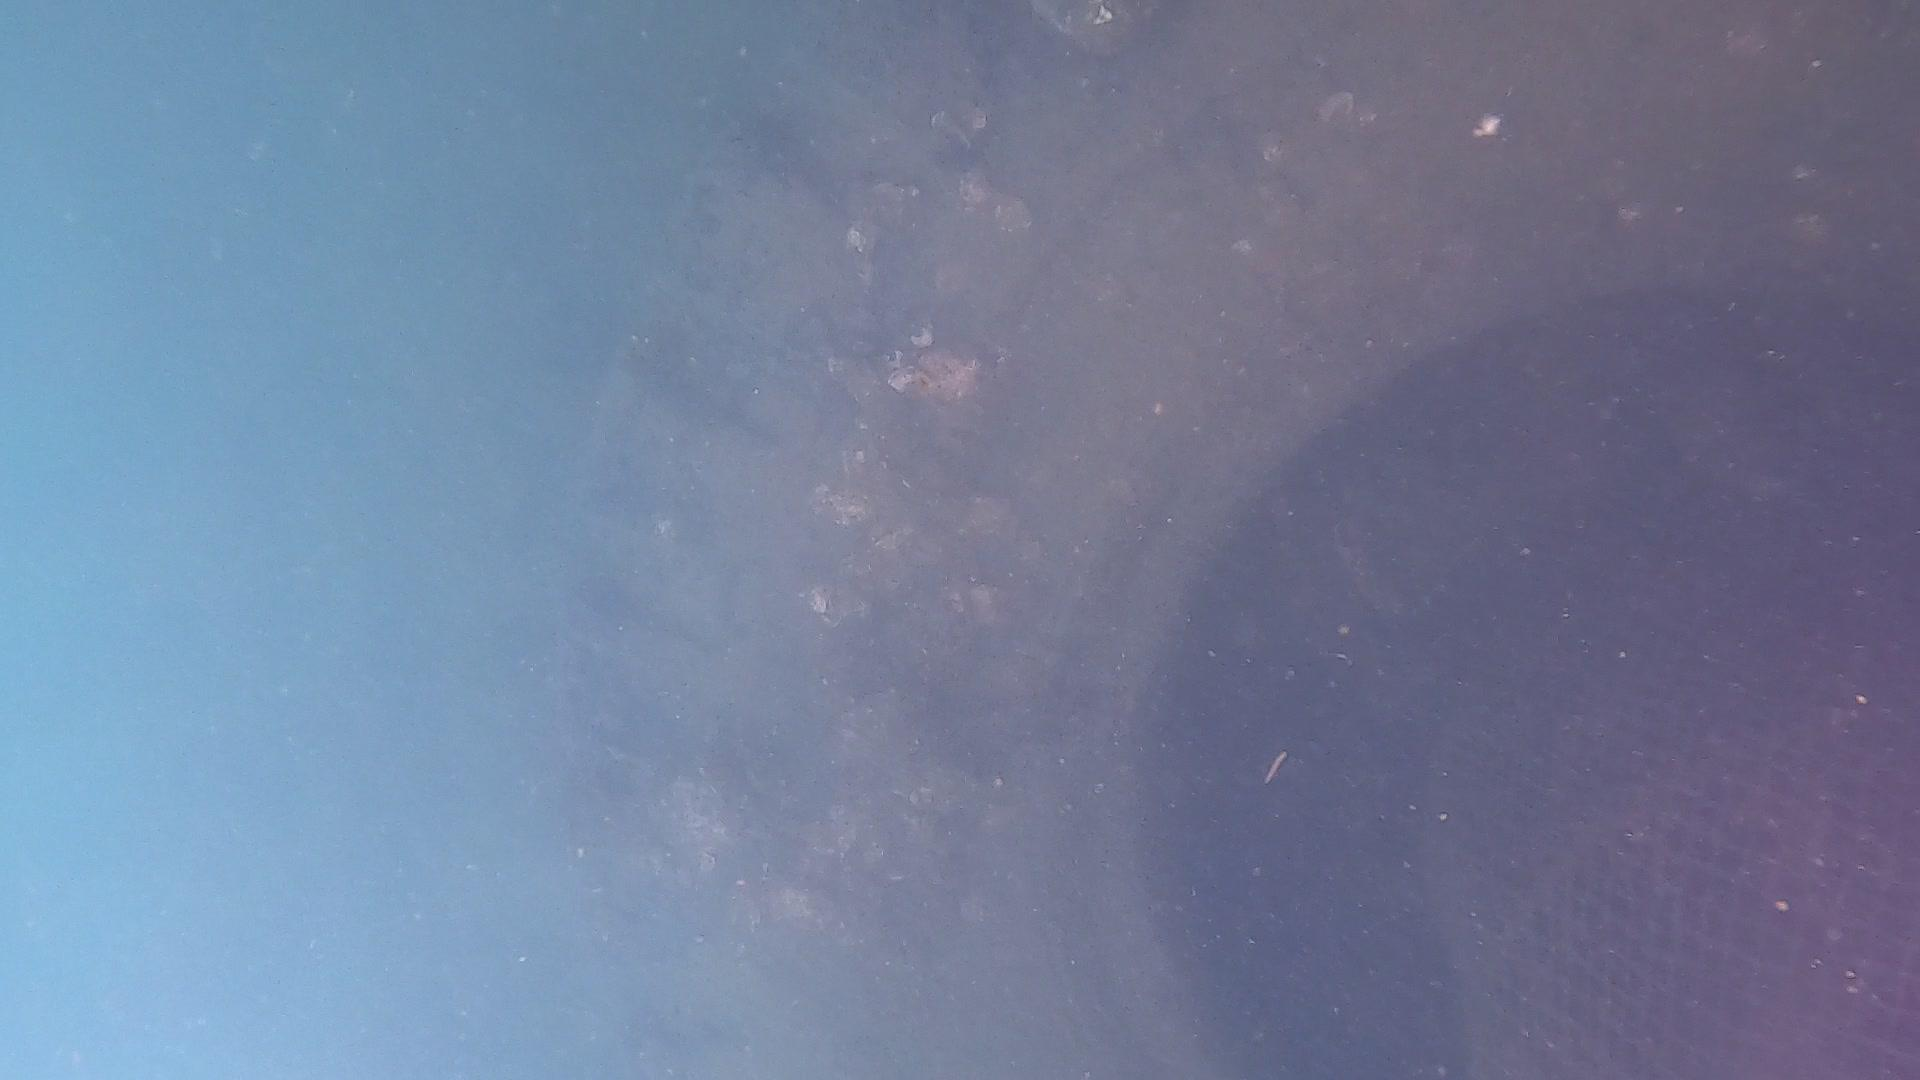fish net: (1427, 605, 1920, 1080)
tire: (553, 0, 1920, 1080)
